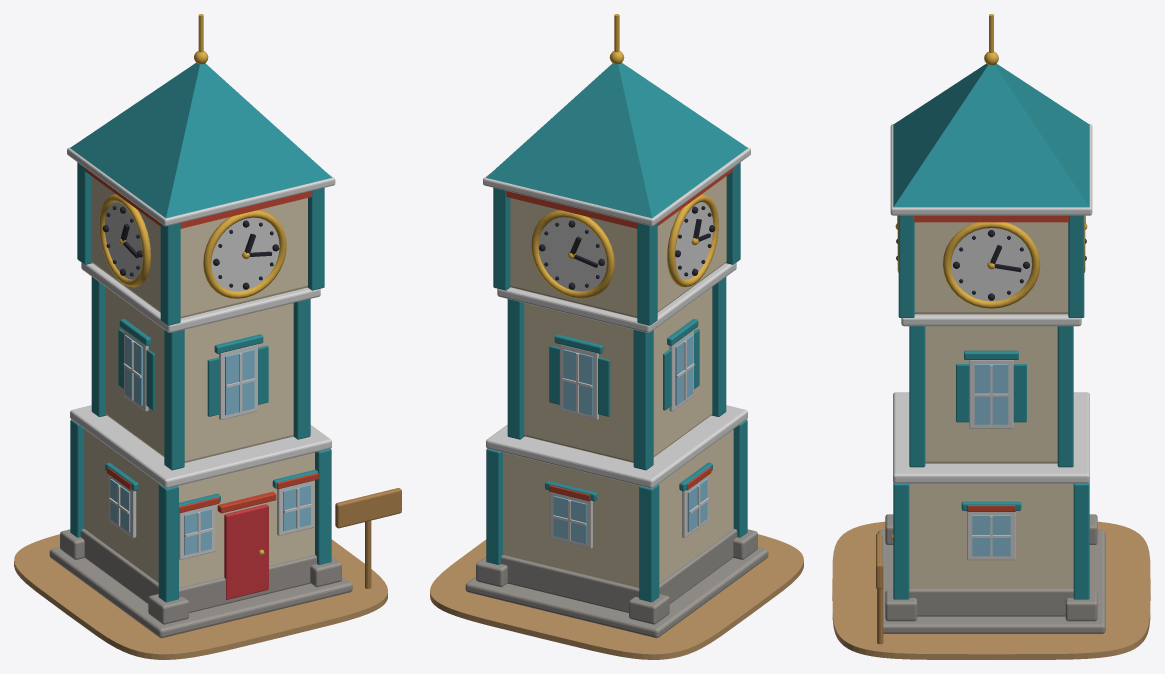
The model's file is clock-tower-stage-4-merged.3b21f113.glb.
The picture shows the model from 3 angles, left to right: view 1: azimuth 30°, elevation 25°; view 2: azimuth 150°, elevation 25°; view 3: azimuth 270°, elevation 25°; orthographic projection. The views are drawn at different scales.
Parts seen in each view (by area): view 1: ClockTower_Stage4__T_vcol; view 2: ClockTower_Stage4__T_vcol; view 3: ClockTower_Stage4__T_vcol.
Part boxes in pixels (x1,y1,x2,y2): ClockTower_Stage4__T_vcol: (14, 14, 401, 659); ClockTower_Stage4__T_vcol: (430, 14, 803, 659); ClockTower_Stage4__T_vcol: (832, 14, 1150, 659).
Bounding box in the file's own units: 4.98 × 9.62 × 4.8.
